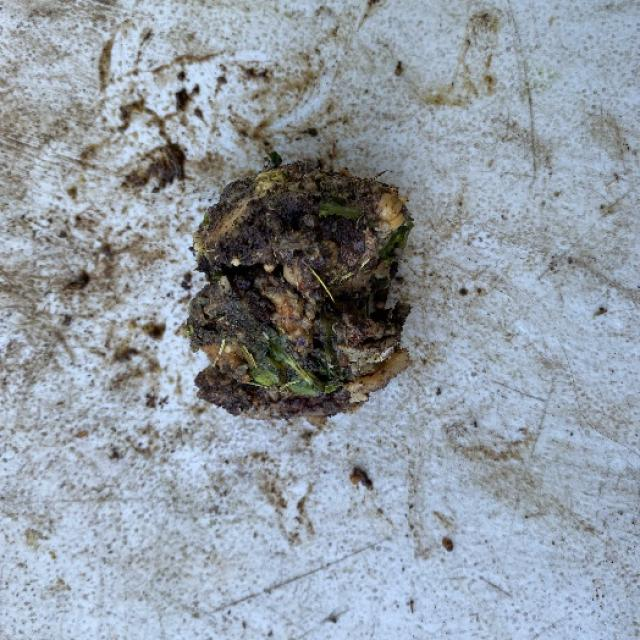organik: (185, 170, 416, 422)
